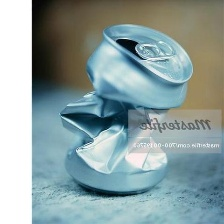can: (56, 20, 195, 198)
